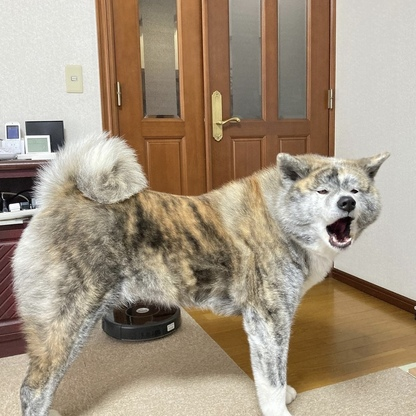akita: (9, 124, 394, 416)
